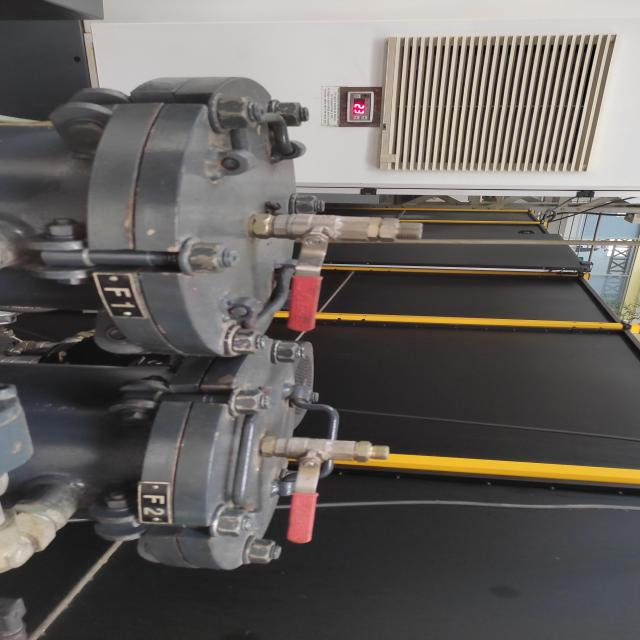closed_valve: (274, 212, 385, 334), (272, 433, 362, 544)
